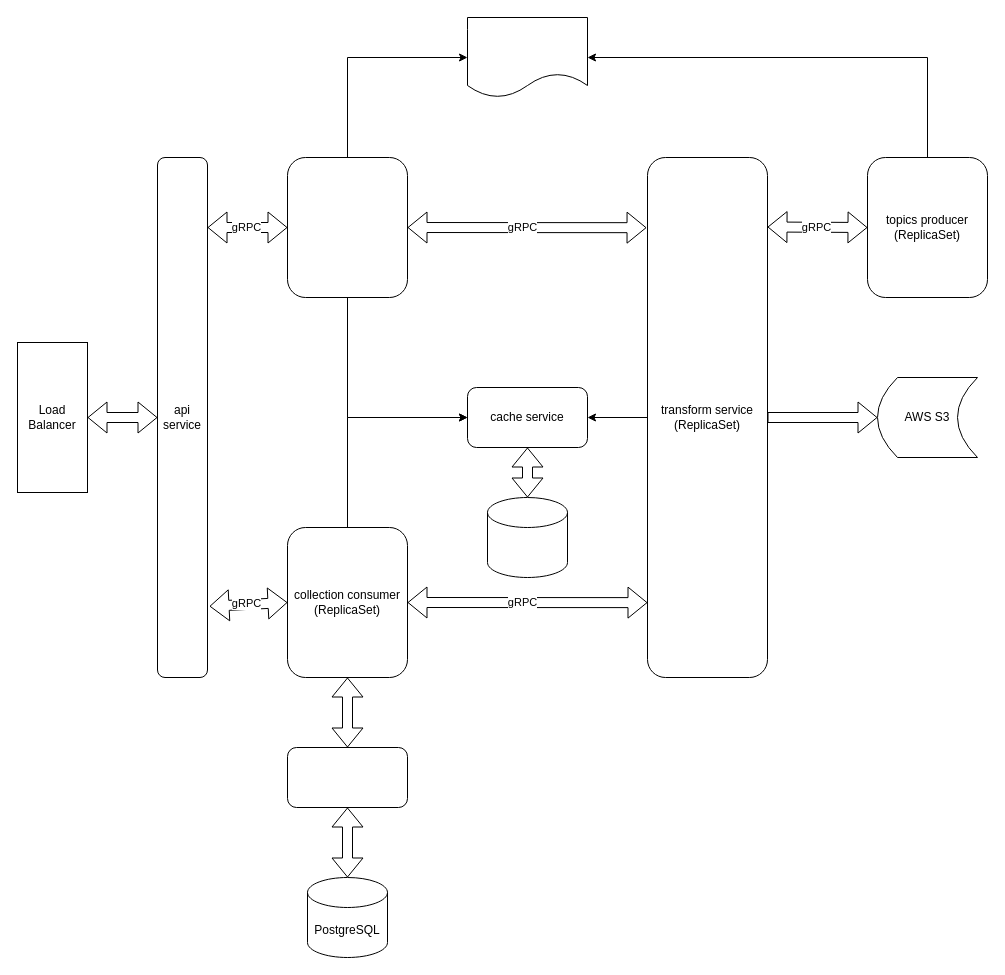
Some shapes in this 1005 by 975 pixel diagram are drawn without their labels. Each missing label, with the box of its shape:
Kafka: (466, 16, 588, 98)
Redis: (486, 496, 568, 578)
storage service: (286, 746, 408, 808)
topics consumer (ReplicaSet): (286, 156, 408, 298)
